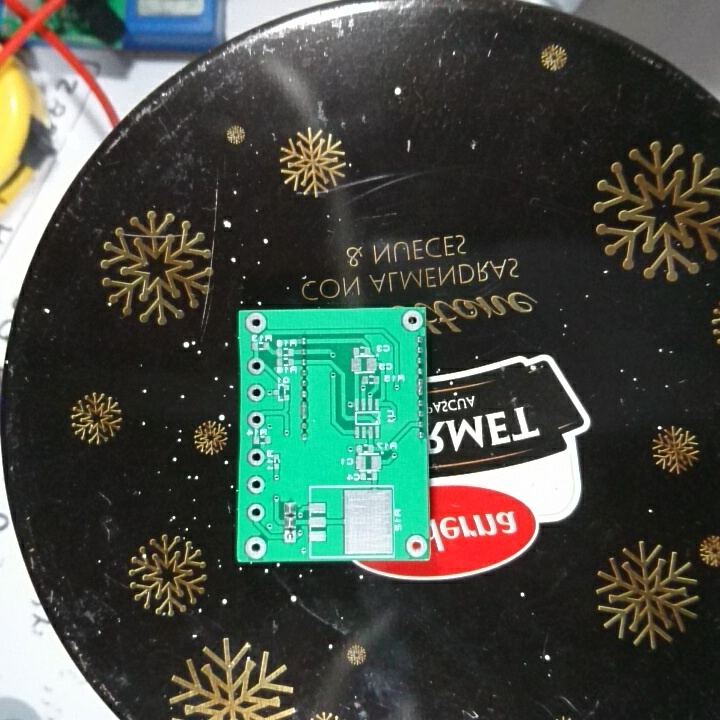F: (244, 535, 271, 561), (404, 533, 430, 560), (398, 307, 423, 334), (244, 311, 270, 334), (244, 355, 267, 378), (244, 380, 267, 403), (245, 446, 267, 469), (245, 474, 267, 497), (245, 501, 268, 522), (246, 407, 267, 429), (281, 529, 298, 546)
P: (296, 398, 313, 420), (414, 375, 427, 398)
